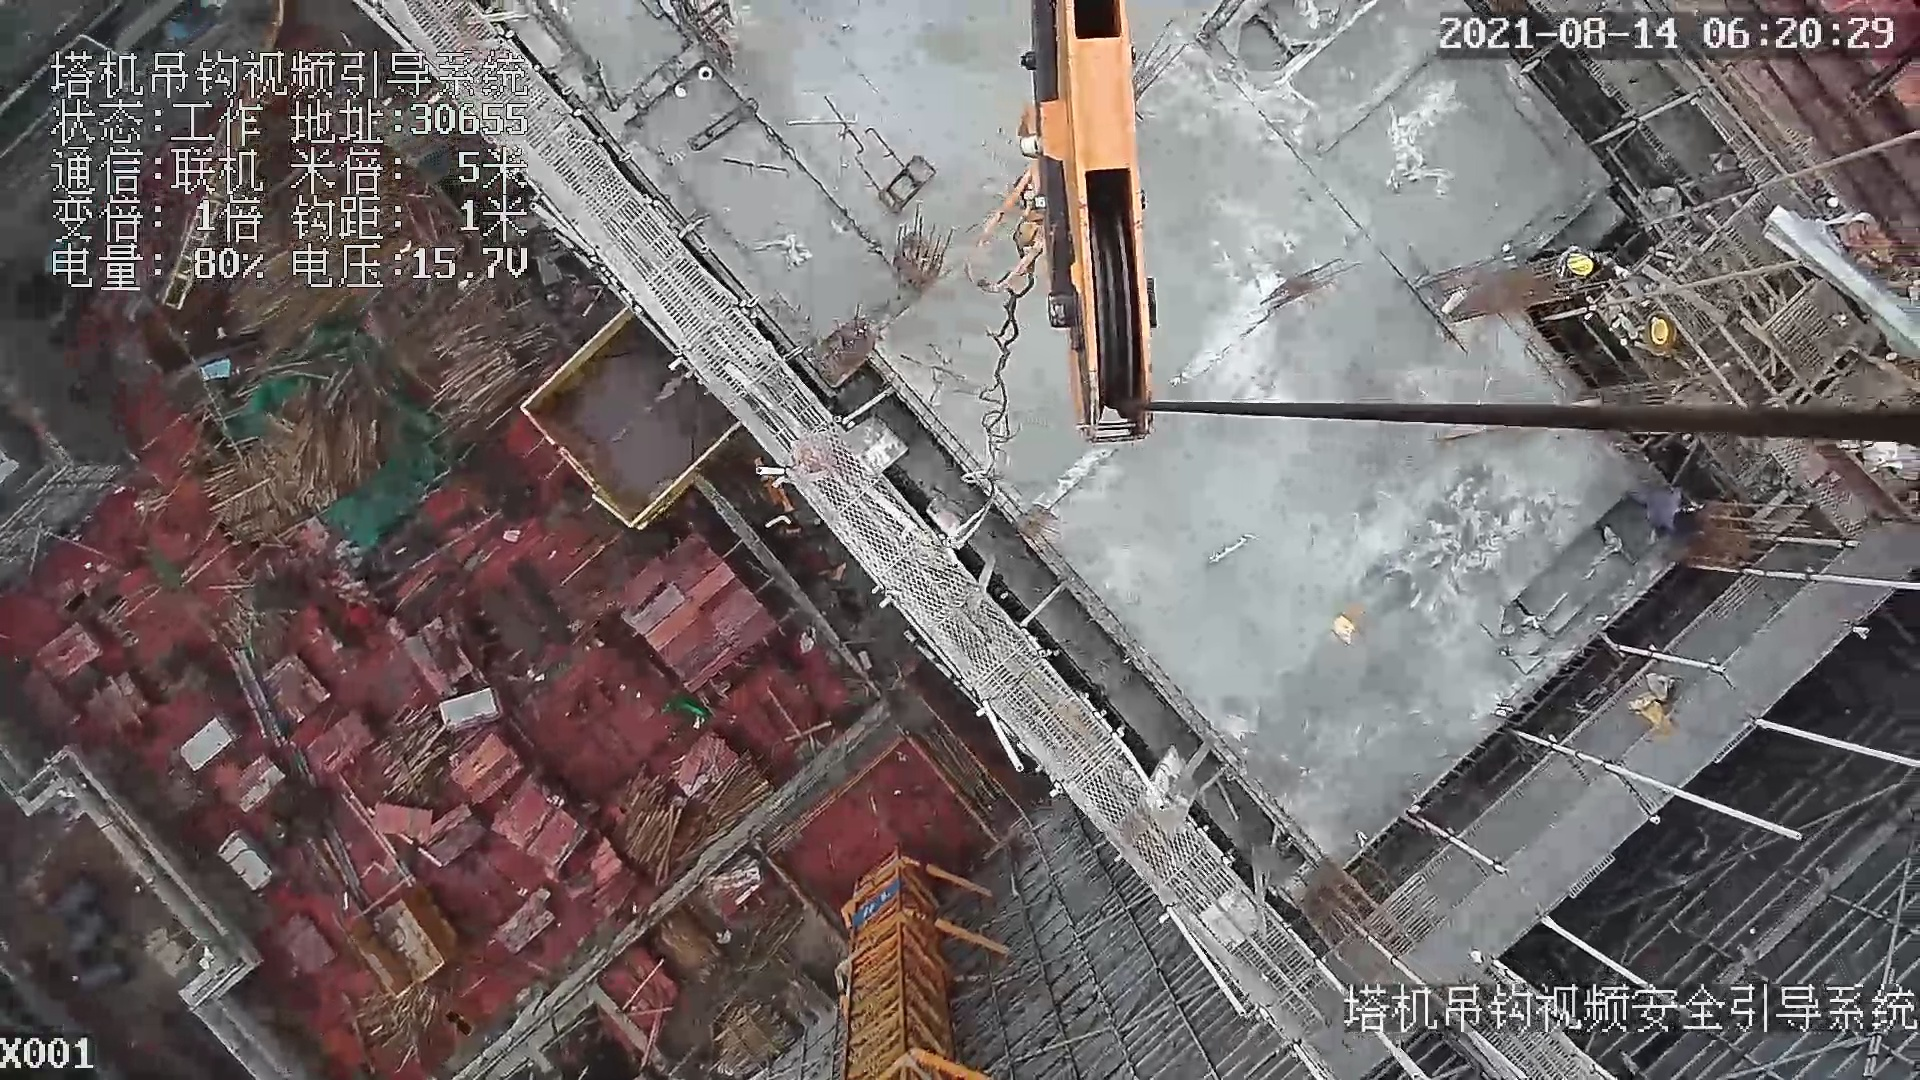helmet: (1571, 254, 1591, 276)
hook: (965, 1, 1158, 435)
person: (1626, 482, 1704, 539), (1540, 244, 1634, 288)
